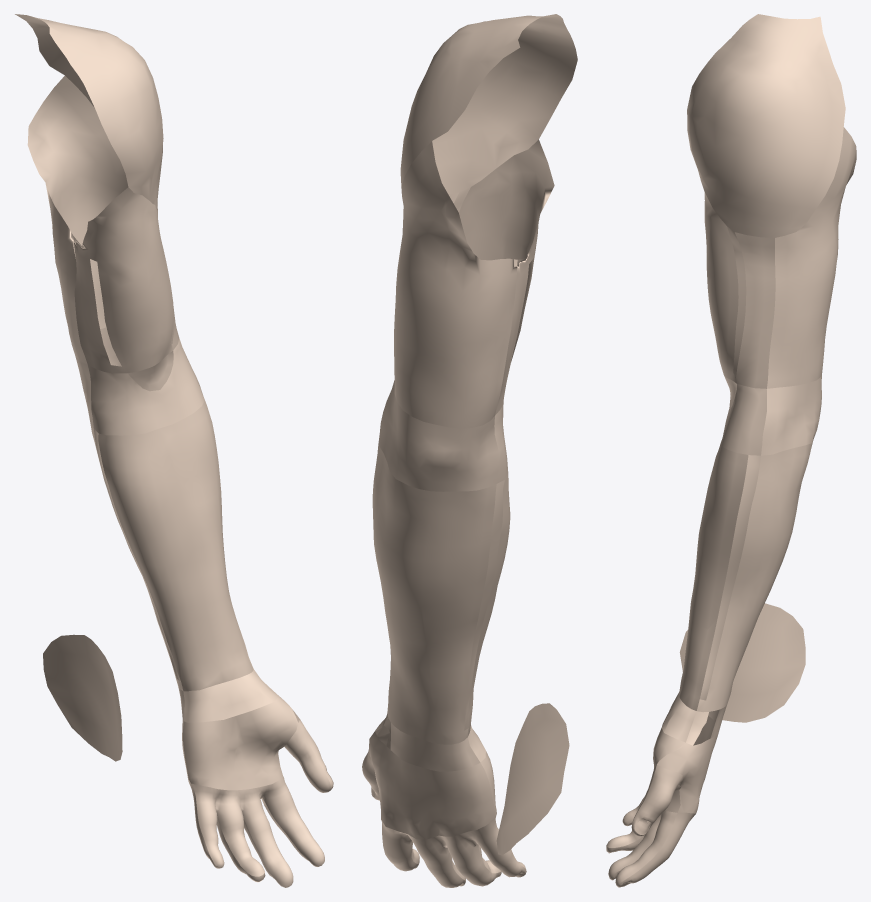
The model's file is lod1-arm-left-skin.glb.
The picture shows the model from 3 angles, left to right: view 1: azimuth 30°, elevation 25°; view 2: azimuth 150°, elevation 25°; view 3: azimuth 270°, elevation 25°; orthographic projection. The views are drawn at different scales.
Parts seen in each view (by area): view 1: part::Anterior region of forearm.l, part::Anterior region of arm.l, part::Posterior region of arm.l, part::Deltoid region.l, part::Palmar surfaces of digits of hand.l, part::Palm.l, part::Hip region.l, part::Anterior region of elbow.l, part::Anterior region of wrist.l, part::Dorsal surfaces of digits of hand.l, part::Cubital fossa.l, part::Posterior region of elbow.l (+1 smaller); view 2: part::Posterior region of forearm.l, part::Posterior region of arm.l, part::Deltoid region.l, part::Anterior region of arm.l, part::Dorsum of hand.l, part::Posterior region of elbow.l, part::Hip region.l, part::Dorsal surfaces of digits of hand.l, part::Posterior region of wrist.l, part::Medial border of forearm.l, part::Anterior region of forearm.l, part::Anterior region of elbow.l (+1 smaller); view 3: part::Deltoid region.l, part::Posterior region of arm.l, part::Posterior region of forearm.l, part::Anterior region of arm.l, part::Anterior region of forearm.l, part::Hip region.l, part::Posterior region of elbow.l, part::Dorsal surfaces of digits of hand.l, part::Lateral border of forearm.l, part::Anterior region of elbow.l, part::Dorsum of hand.l, part::Palmar surfaces of digits of hand.l (+4 smaller).
Boxes of the visible parts, x1,y1,x2,y2 form: part::Anterior region of forearm.l: (98,397,253,691); part::Anterior region of arm.l: (73,187,179,373); part::Posterior region of arm.l: (27,76,128,364); part::Deltoid region.l: (15,14,163,204); part::Palmar surfaces of digits of hand.l: (191,723,331,886); part::Palm.l: (183,695,298,790); part::Hip region.l: (43,634,122,761); part::Anterior region of elbow.l: (88,338,204,435); part::Anterior region of wrist.l: (183,669,278,722); part::Dorsal surfaces of digits of hand.l: (188,719,333,887); part::Cubital fossa.l: (127,351,173,391); part::Posterior region of elbow.l: (75,327,121,427); part::Posterior region of forearm.l: (372,445,496,744); part::Posterior region of arm.l: (394,141,517,428); part::Deltoid region.l: (400,14,577,194); part::Anterior region of arm.l: (449,139,554,415); part::Dorsum of hand.l: (369,725,495,839); part::Posterior region of elbow.l: (378,380,499,491); part::Hip region.l: (496,703,569,855); part::Dorsal surfaces of digits of hand.l: (362,733,526,887); part::Posterior region of wrist.l: (375,713,480,771); part::Medial border of forearm.l: (464,480,504,730); part::Anterior region of forearm.l: (468,473,510,735); part::Anterior region of elbow.l: (494,404,508,483); part::Deltoid region.l: (687,14,845,237); part::Posterior region of arm.l: (767,127,856,388); part::Posterior region of forearm.l: (697,441,812,712); part::Anterior region of arm.l: (704,192,775,388); part::Anterior region of forearm.l: (679,444,748,710); part::Hip region.l: (679,603,805,722); part::Posterior region of elbow.l: (761,374,821,455); part::Dorsal surfaces of digits of hand.l: (606,765,695,887); part::Lateral border of forearm.l: (700,455,760,700); part::Anterior region of elbow.l: (720,384,766,455); part::Dorsum of hand.l: (657,716,718,813); part::Palmar surfaces of digits of hand.l: (606,765,677,885).
Size of the model in its own units: 0.2047 by 0.7376 by 0.2113.
